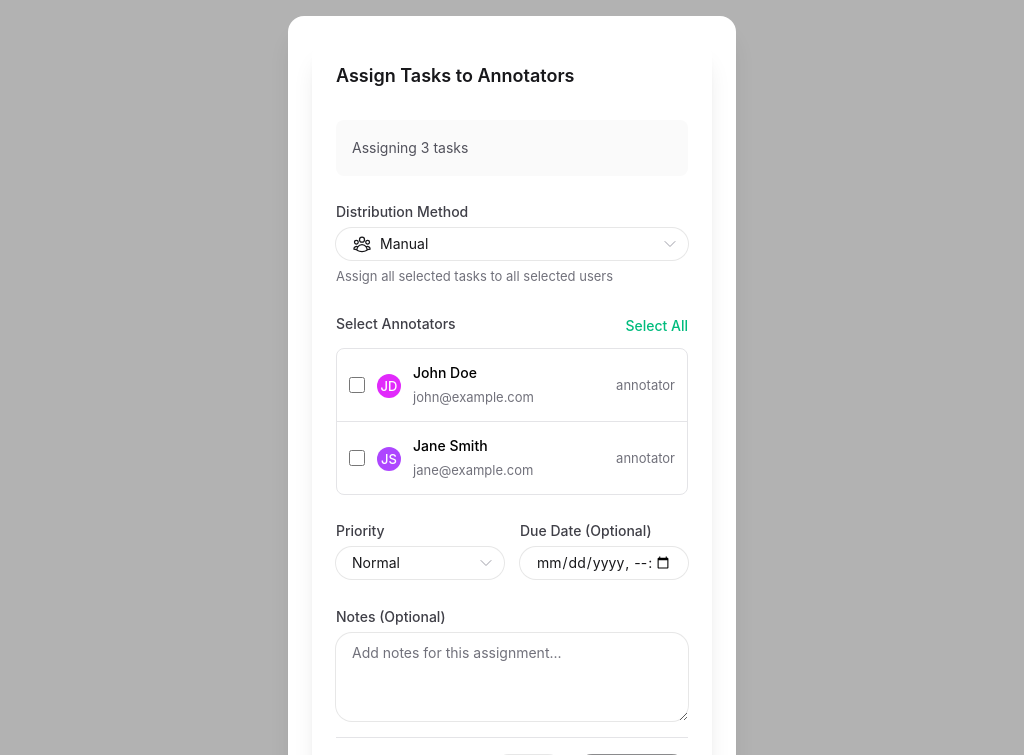
TaskAssignmentModal › disables form during submission
The image size is (1024, 755).
Select a user and submit
What coordinates should you click on to do the following:
click the 1st checkbox
I would click on:
 (357, 385)
Its box is [349,377,365,393].
(page scrolled)
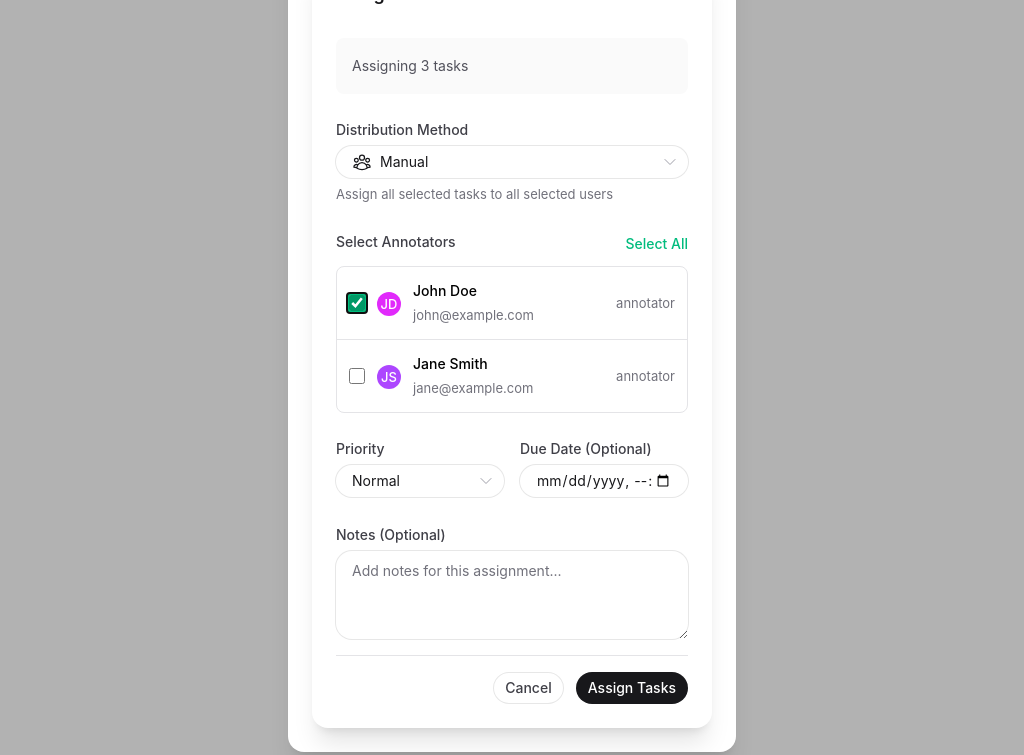
What coordinates should you click on to do the following:
click the button "Assign Tasks"
I would click on:
 (632, 688)
Its box is [576,672,688,704].
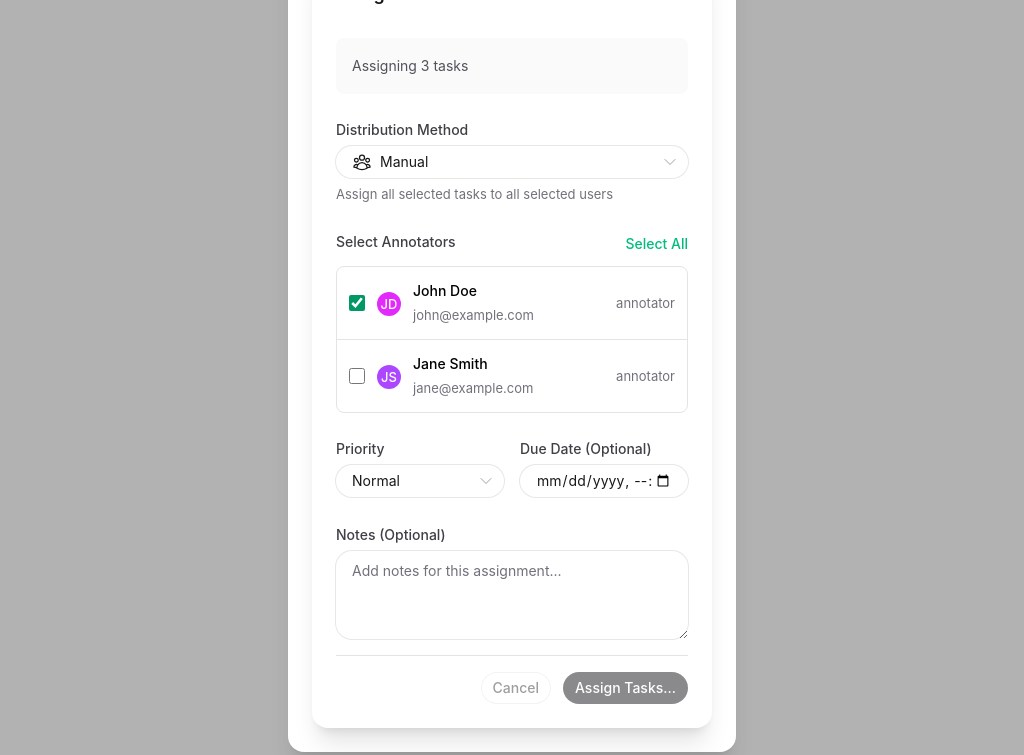
Expected: the button "Assign Tasks..." is shown, [563,672,688,704]
Result: the button "Assign Tasks..." is disabled at [563,672,688,704]
